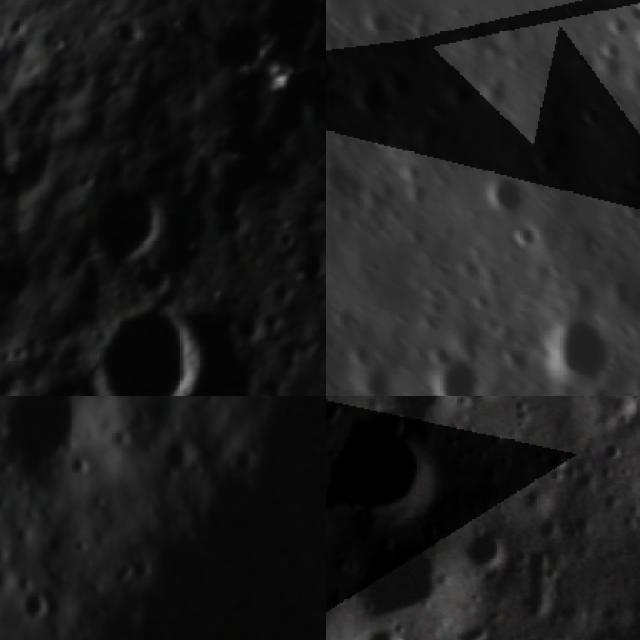crater: (89, 293, 218, 396), (326, 416, 437, 519), (522, 296, 631, 396), (0, 396, 109, 494), (77, 164, 182, 263), (333, 537, 452, 621), (194, 7, 277, 89), (411, 342, 508, 396), (474, 164, 537, 226), (342, 67, 405, 129), (396, 0, 451, 57), (361, 396, 462, 426), (352, 2, 405, 56), (326, 151, 367, 220), (8, 583, 61, 631), (502, 216, 552, 265), (520, 140, 567, 192), (459, 522, 508, 570), (571, 96, 614, 140), (109, 10, 148, 49), (425, 337, 462, 376), (326, 44, 348, 105), (352, 628, 415, 640), (326, 125, 337, 165)
